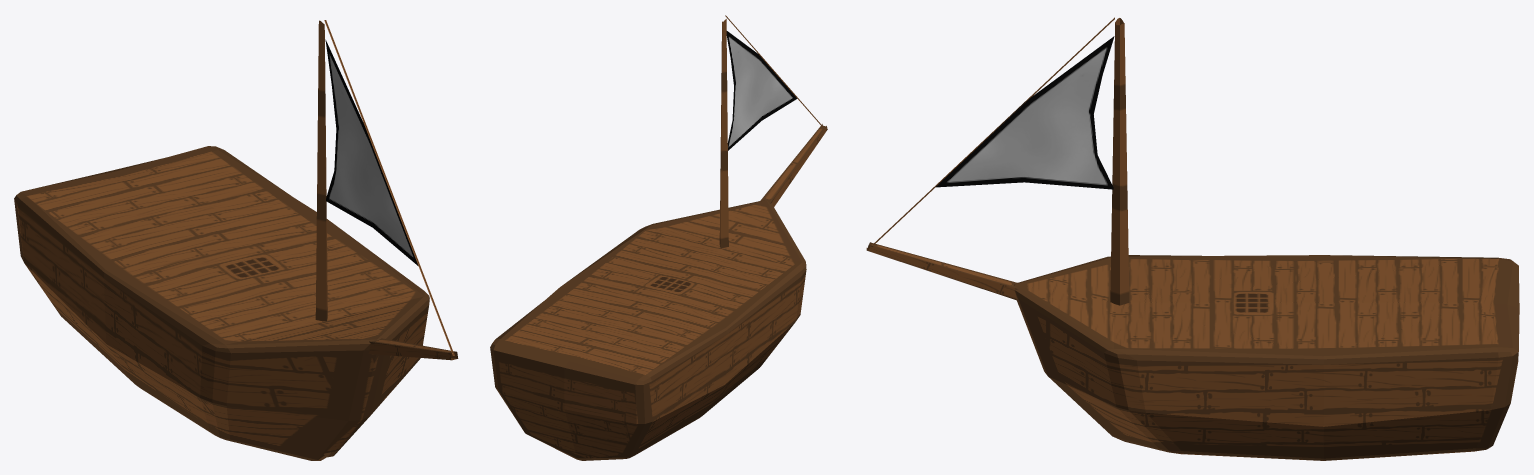
Rendered from ship1 1.fbx.
3 renders of one model, left to right at view 1: azimuth 30°, elevation 25°; view 2: azimuth 150°, elevation 25°; view 3: azimuth 270°, elevation 25°, orthographic. The views are drawn at different scales.
Parts seen in each view (by area): view 1: hull, ropes, sail.002, hull.001; view 2: hull, ropes, sail.002, hull.001; view 3: hull, ropes, sail.002, hull.001.
Boxes of the visible parts, x1,y1,x2,y2 form: hull: (14, 146, 429, 460); ropes: (324, 20, 454, 356); sail.002: (315, 20, 327, 321); hull.001: (368, 338, 458, 360); hull: (490, 200, 806, 460); ropes: (725, 15, 822, 150); sail.002: (719, 19, 728, 248); hull.001: (760, 124, 827, 206); hull: (1014, 255, 1519, 460); ropes: (872, 17, 1114, 244); sail.002: (1110, 18, 1129, 305); hull.001: (866, 242, 1017, 300).
Size of the model in its own units: 143 by 281 by 389.
Materials: 1 (1 with a texture image).
